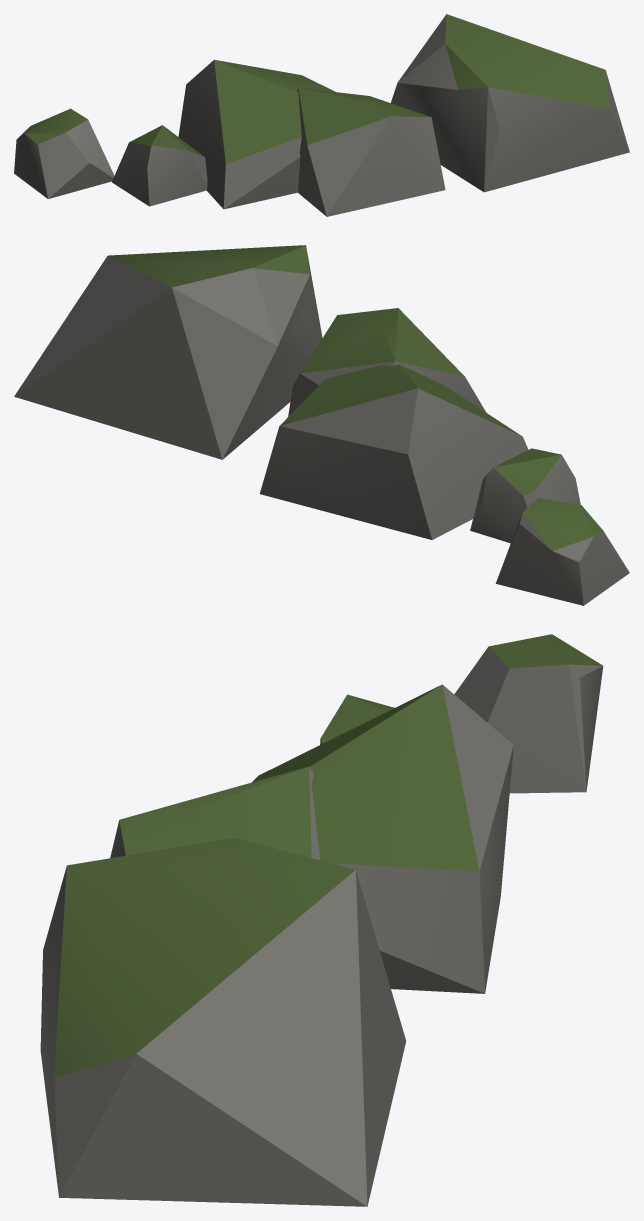
File: Rubble.fbx
3 views of the same model, one above another, from view 1: azimuth 30°, elevation 25°; view 2: azimuth 150°, elevation 25°; view 3: azimuth 270°, elevation 25° (orthographic). The views are drawn at different scales.
Visible parts, largest first — view 1: Rubble; view 2: Rubble; view 3: Rubble.
Boxes of the visible parts, x1,y1,x2,y2 form: Rubble: (14,14,629,216); Rubble: (14,245,629,605); Rubble: (40,634,603,1206).
Bounding box in the file's own units: 1.69 × 0.3643 × 0.8352.
